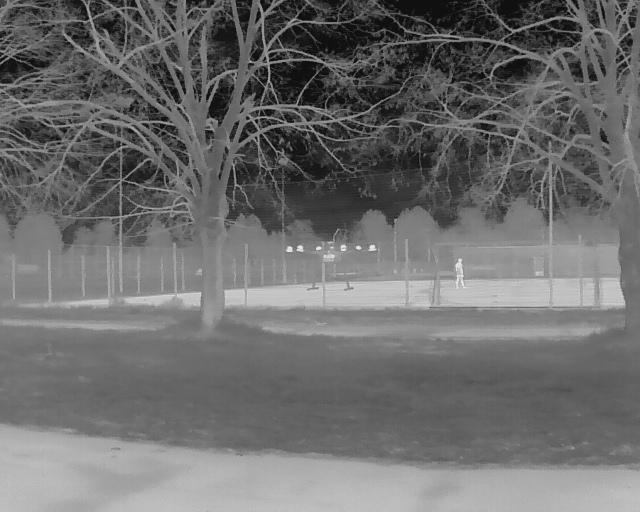drone: (278, 216, 386, 301)
